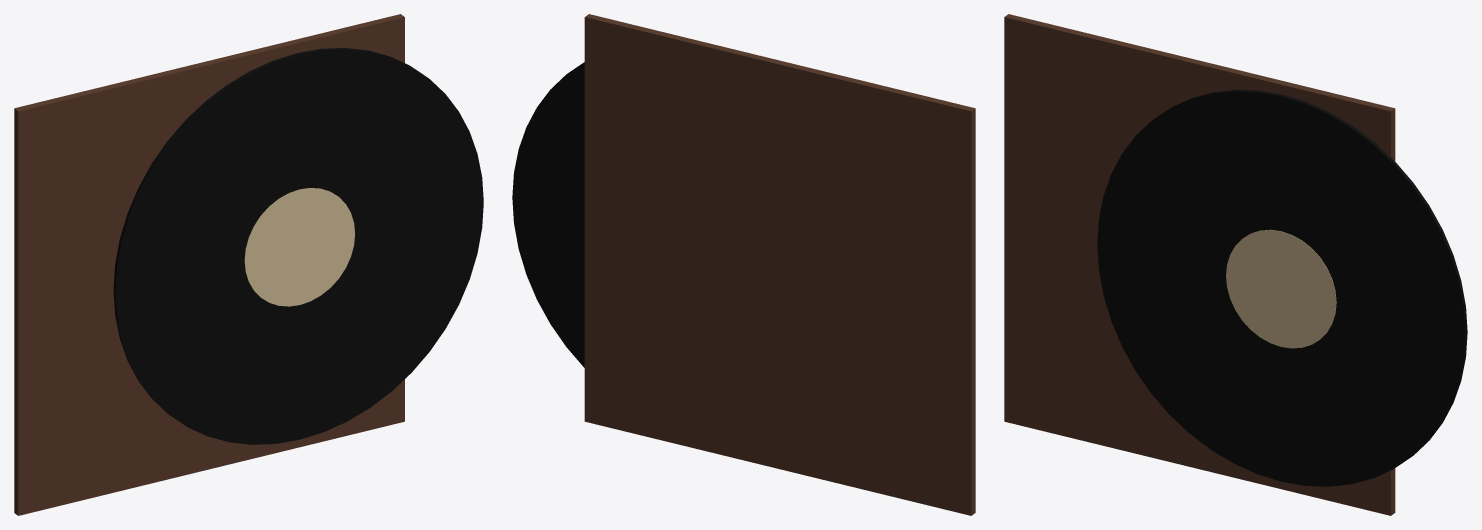
Rendered from record-7.glb.
3 renders of one model, left to right at view 1: azimuth 30°, elevation 25°; view 2: azimuth 150°, elevation 25°; view 3: azimuth 330°, elevation 25°, orthographic.
Bounding box in the file's own units: 0.3775 × 0.315 × 0.0093.
